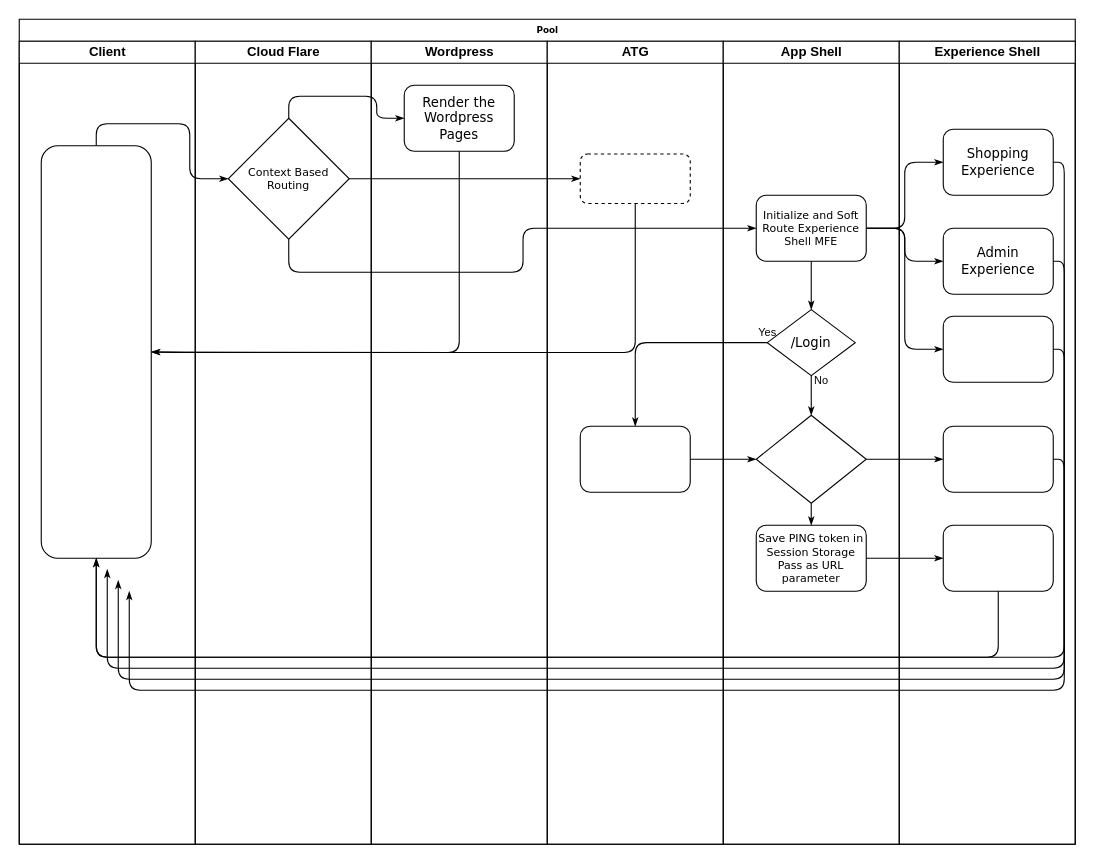
Image size: 1095x864. Some labels were removed from this diagram. Here are the shapes that lost their labels. From the top down, the centre of each, then its label:
the point at 634,178: Render the ATG page
the point at 95,351: Invoke Browser App
the point at 997,348: Preference Experience
the point at 634,458: Perform ATG Login generate Ping Token
the point at 810,458: Is User Logged In
the point at 997,458: Anonymous User experience
the point at 997,557: Logged In User Experience
